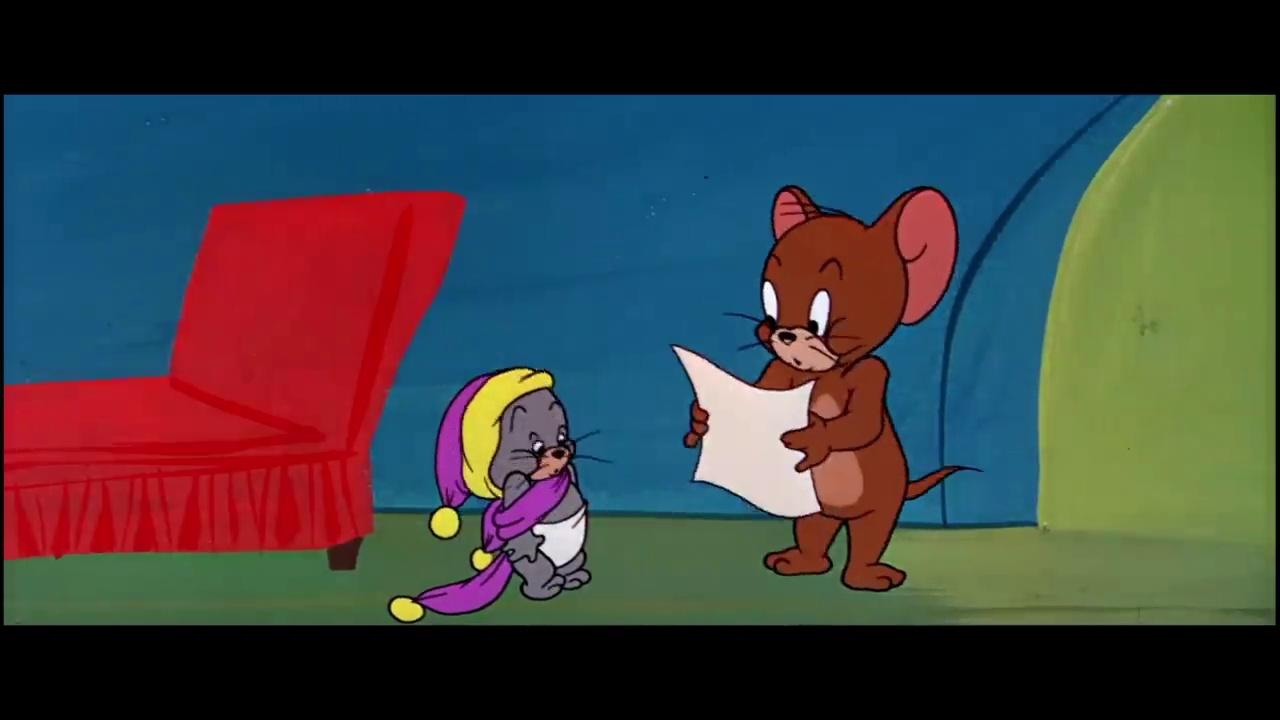Jerry: (682, 181, 986, 594)
